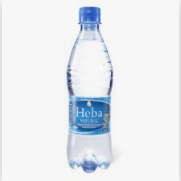Bottle: (67, 7, 114, 173)
